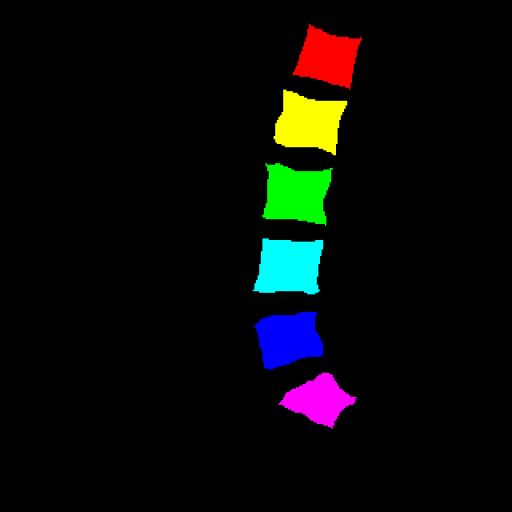L1: (293, 25, 361, 88)
L2: (275, 90, 347, 155)
L3: (263, 163, 332, 224)
L4: (254, 238, 323, 294)
L5: (255, 312, 323, 369)
S1: (279, 373, 356, 428)
